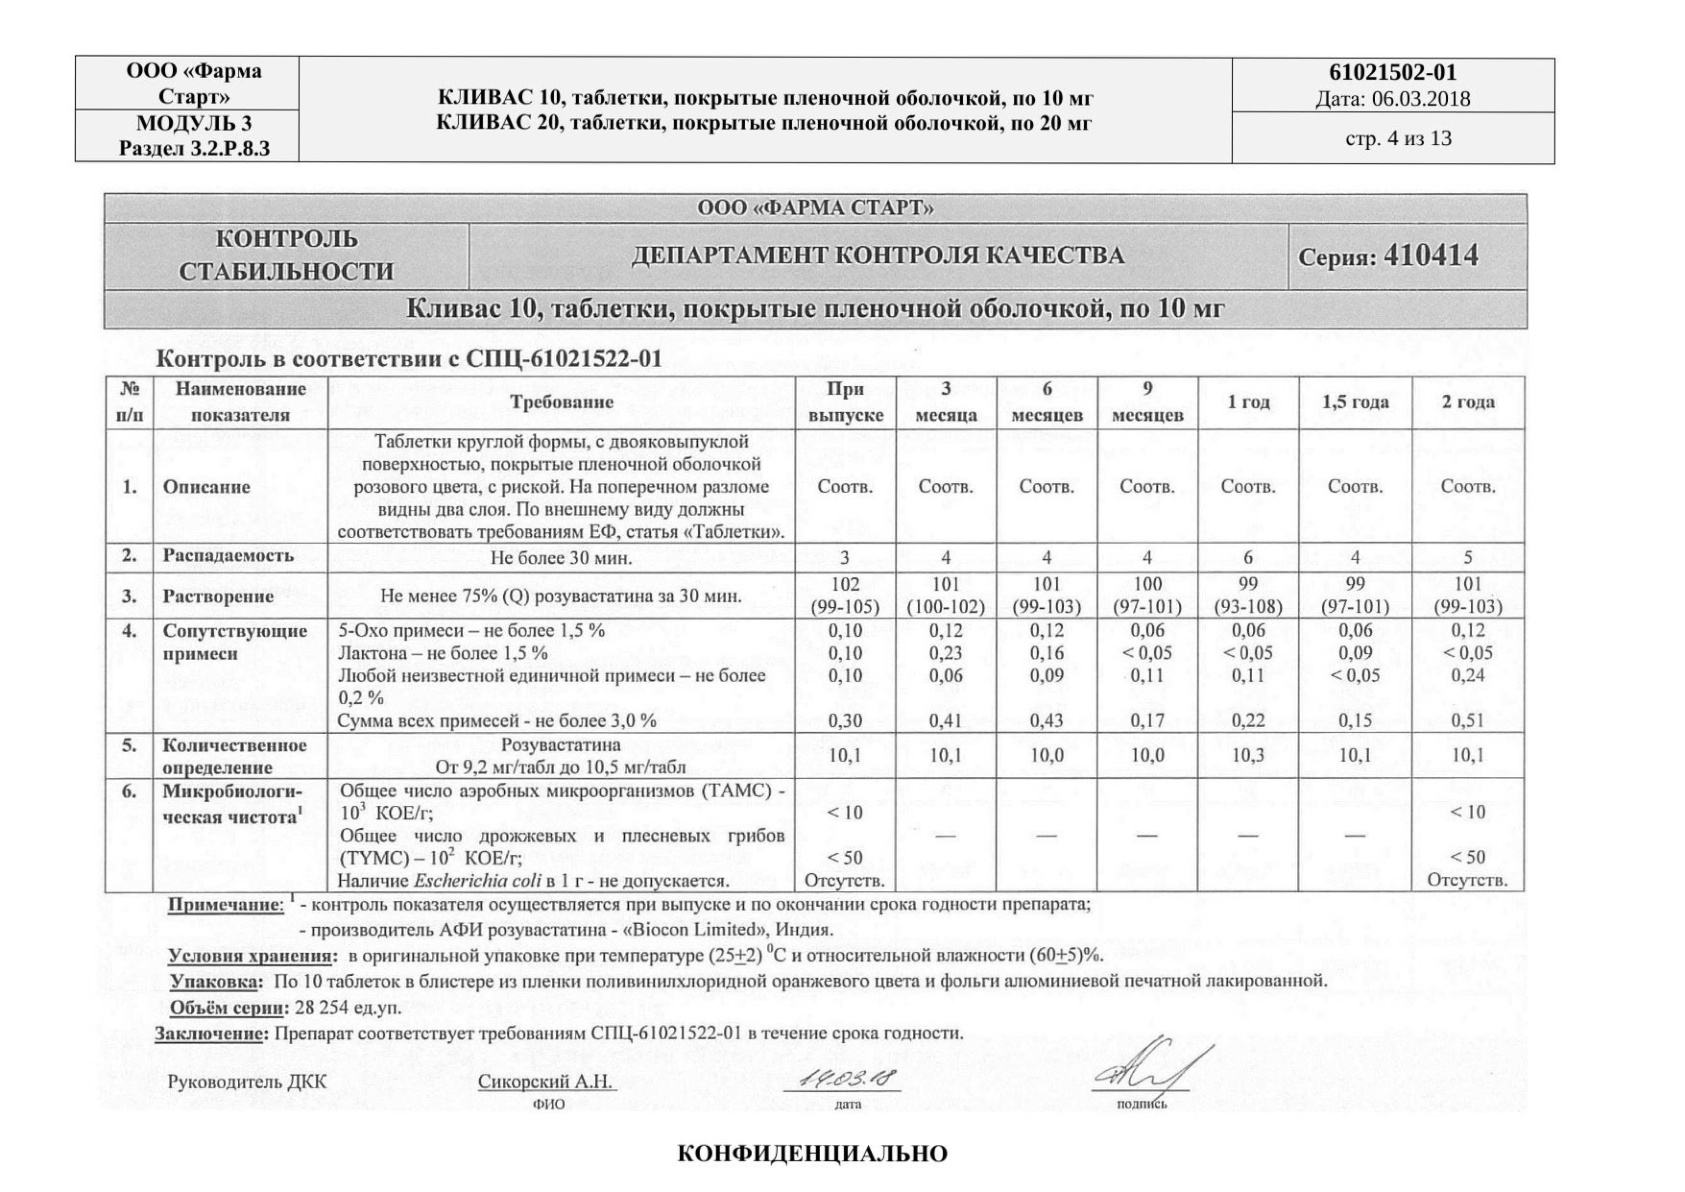full_lined: (105, 375, 1525, 891)
merged_cells: (101, 190, 1529, 330), (74, 53, 1556, 164)
